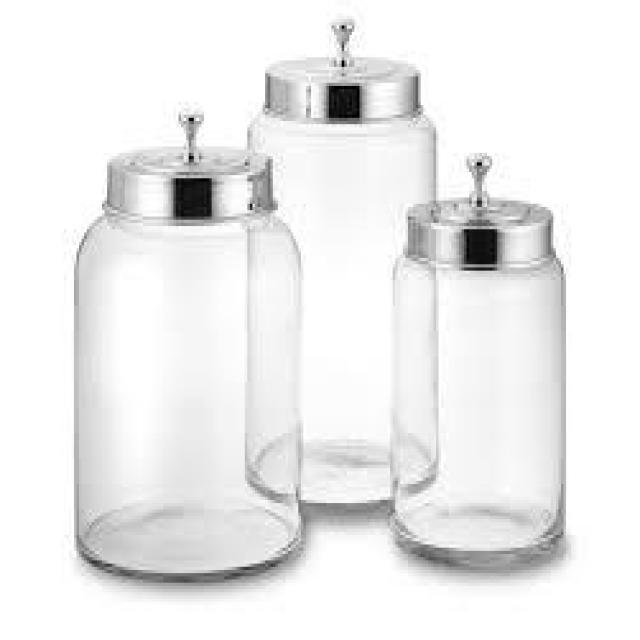Glass: (68, 102, 308, 589), (245, 16, 440, 514), (391, 150, 568, 576)
